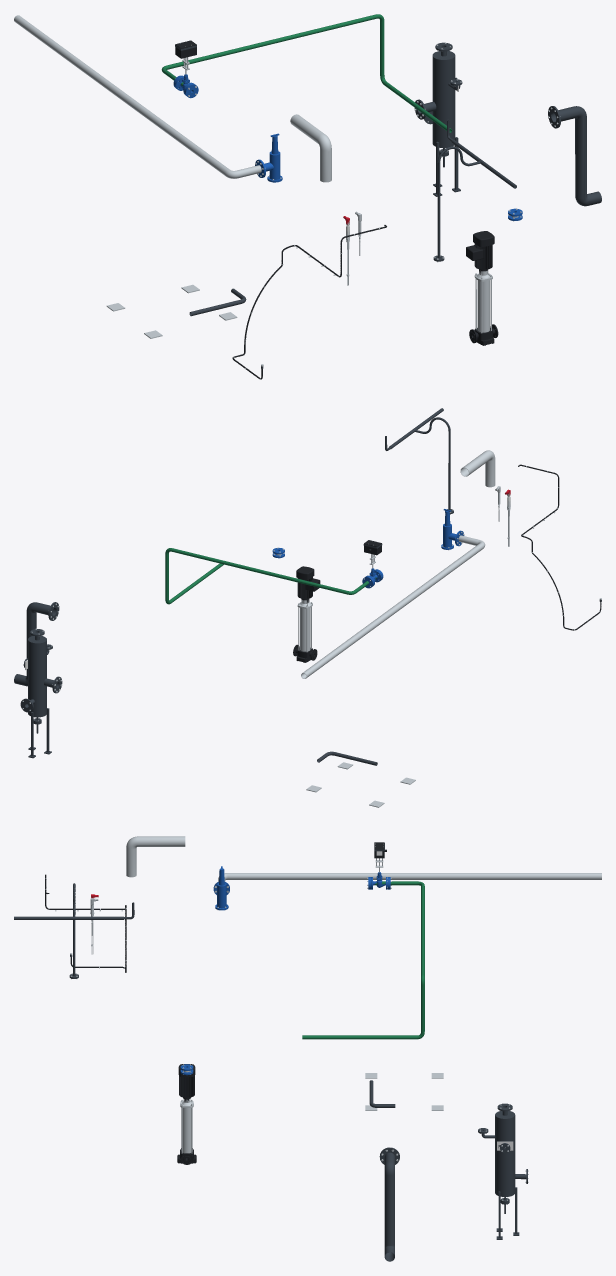
3 renders of one model, top to bottom at view 1: azimuth 30°, elevation 25°; view 2: azimuth 150°, elevation 25°; view 3: azimuth 270°, elevation 25°, orthographic. The views are drawn at different scales.
Visible parts, largest first — view 1: separator_fv8 / dark, safety_vent_2 / steel, to_direct / green, bdv_water_drain / dark, pressure_header / dark, steam_rise / steel, pump_1 CAD solid 15, wiring_lcs600 / black, safety_2 / blue, pump_1 CAD solid 2; view 2: separator_fv8 / dark, safety_vent_2 / steel, to_direct / green, bdv_water_drain / dark, pressure_header / dark, steam_rise / steel, pump_1 CAD solid 15; view 3: safety_vent_2 / steel, separator_fv8 / dark, to_direct / green, bdv_water_drain / dark, steam_rise / steel, pressure_header / dark.
Boxes of the visible parts, left/top/right/bottom form: separator_fv8 / dark: left=414, top=42, right=462, bottom=196; safety_vent_2 / steel: left=14, top=15, right=261, bottom=178; to_direct / green: left=161, top=14, right=452, bottom=132; bdv_water_drain / dark: left=548, top=106, right=601, bottom=206; pressure_header / dark: left=433, top=119, right=516, bottom=261; steam_rise / steel: left=290, top=114, right=331, bottom=182; pump_1 CAD solid 15: left=466, top=231, right=494, bottom=270; wiring_lcs600 / black: left=232, top=225, right=386, bottom=379; safety_2 / blue: left=255, top=133, right=282, bottom=182; pump_1 CAD solid 2: left=477, top=280, right=489, bottom=332; separator_fv8 / dark: left=20, top=629, right=62, bottom=758; safety_vent_2 / steel: left=301, top=535, right=485, bottom=678; to_direct / green: left=165, top=548, right=369, bottom=604; bdv_water_drain / dark: left=14, top=602, right=59, bottom=686; pressure_header / dark: left=385, top=408, right=453, bottom=513; steam_rise / steel: left=460, top=450, right=495, bottom=487; pump_1 CAD solid 15: left=296, top=566, right=320, bottom=599; safety_vent_2 / steel: left=218, top=873, right=601, bottom=881; separator_fv8 / dark: left=478, top=1103, right=527, bottom=1239; to_direct / green: left=302, top=881, right=424, bottom=1039; bdv_water_drain / dark: left=379, top=1147, right=399, bottom=1261; steam_rise / steel: left=126, top=836, right=185, bottom=877; pressure_header / dark: left=14, top=883, right=134, bottom=978.
Size of the model in its own units: 5.75 by 3.06 by 6.38.
